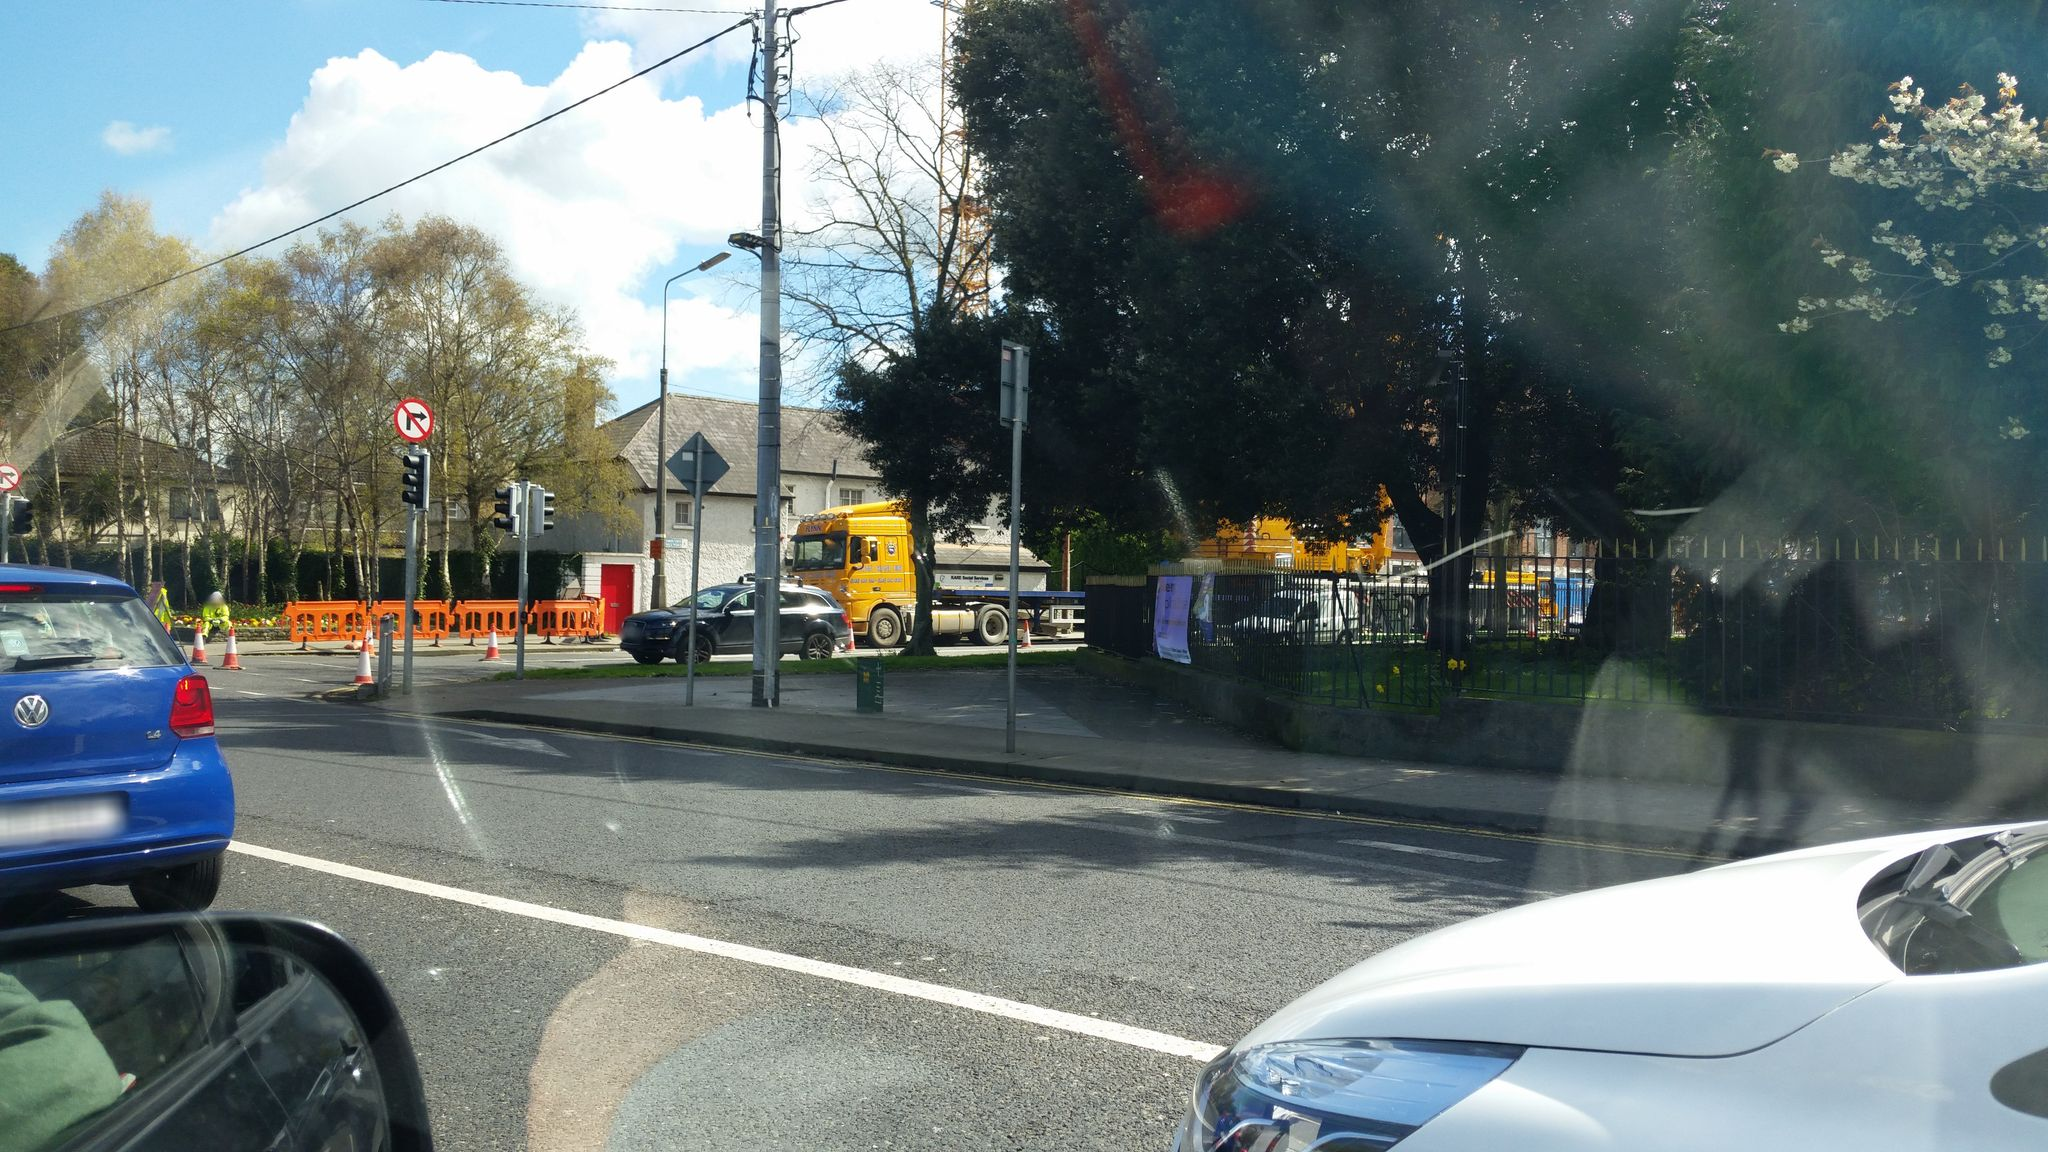vinyl banner: (1132, 561, 1212, 691)
